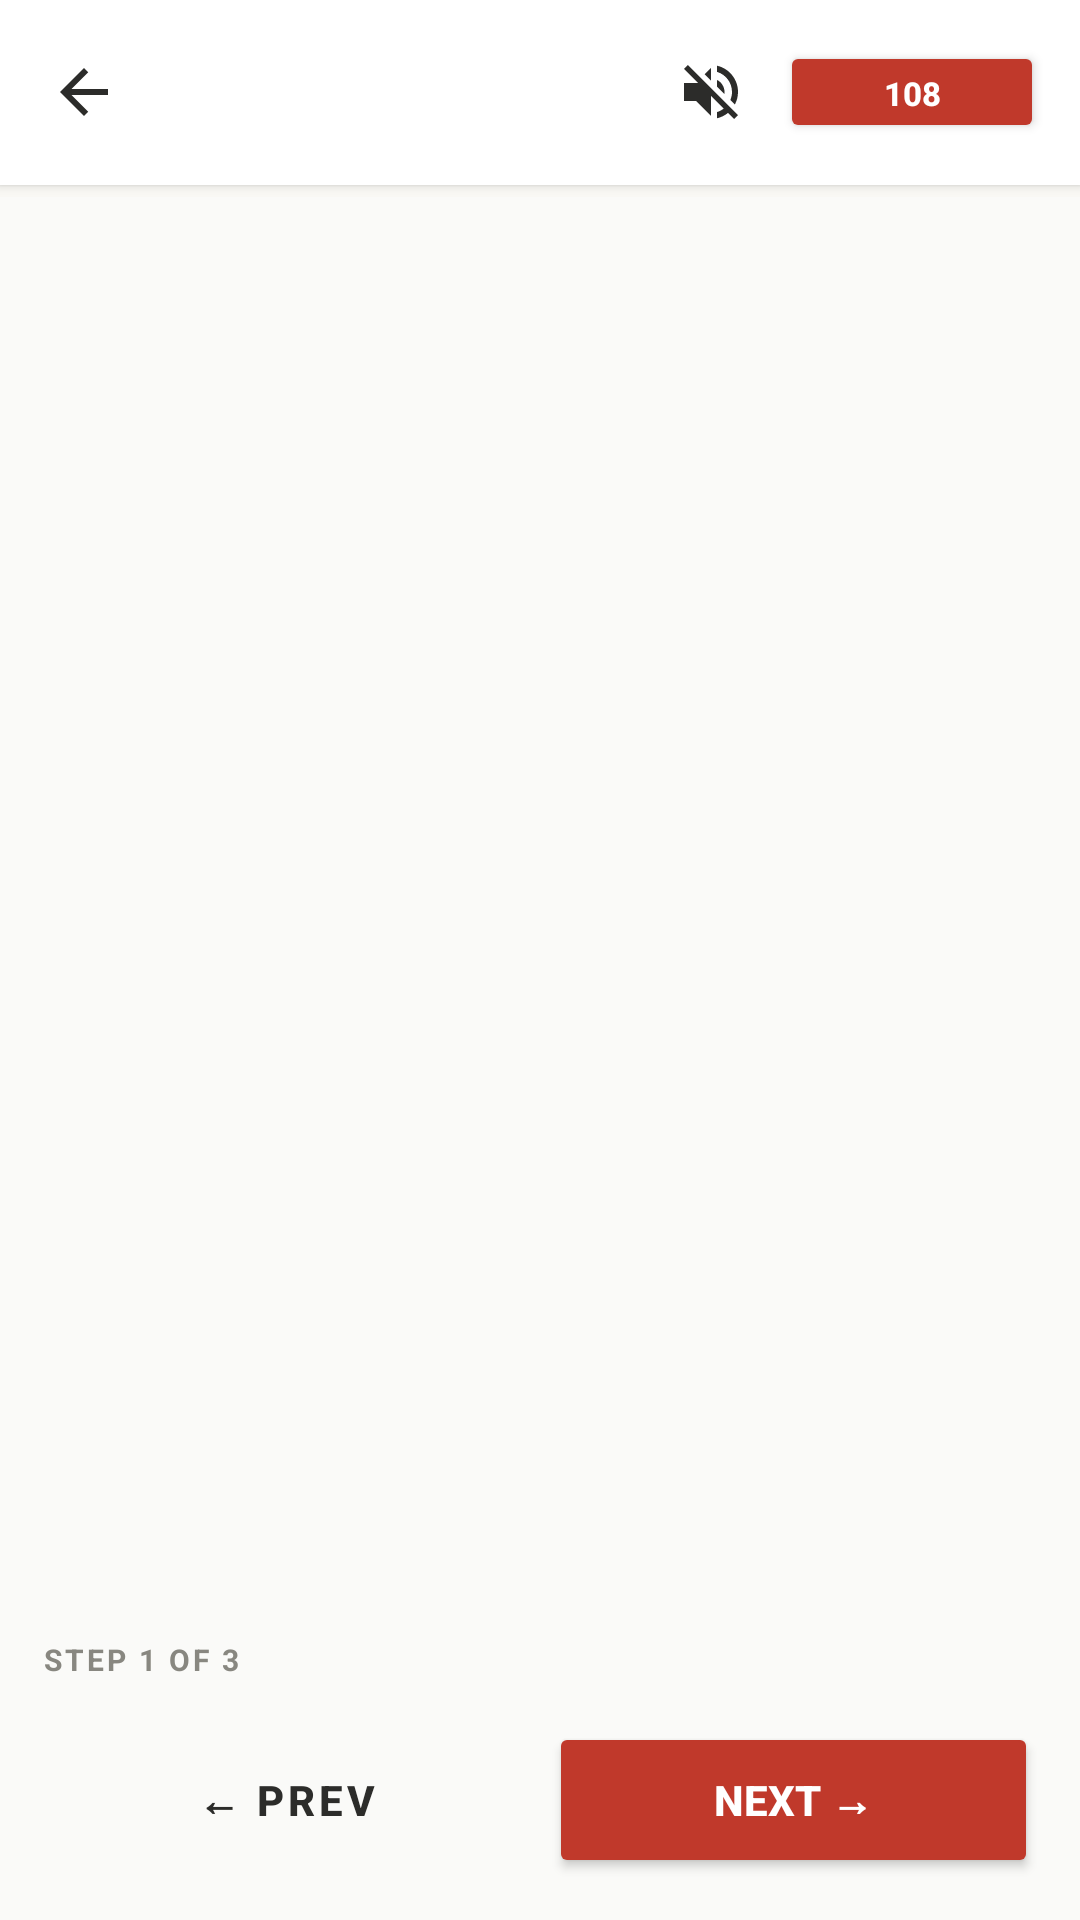

Icon click points for this 1080 x 1920 phone screenshot, format (x,y):
Back: (84,92)
Toggle Audio: (711,92)
